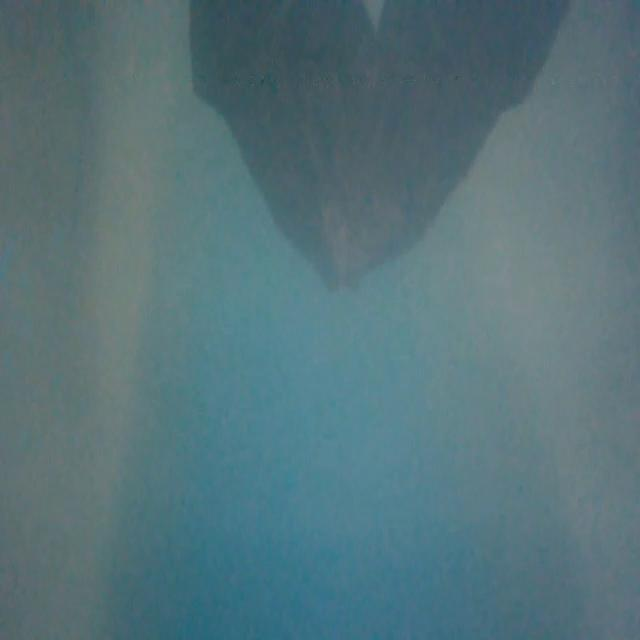plastic bags: (186, 2, 571, 295)
